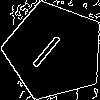I: (29, 25, 70, 70)
